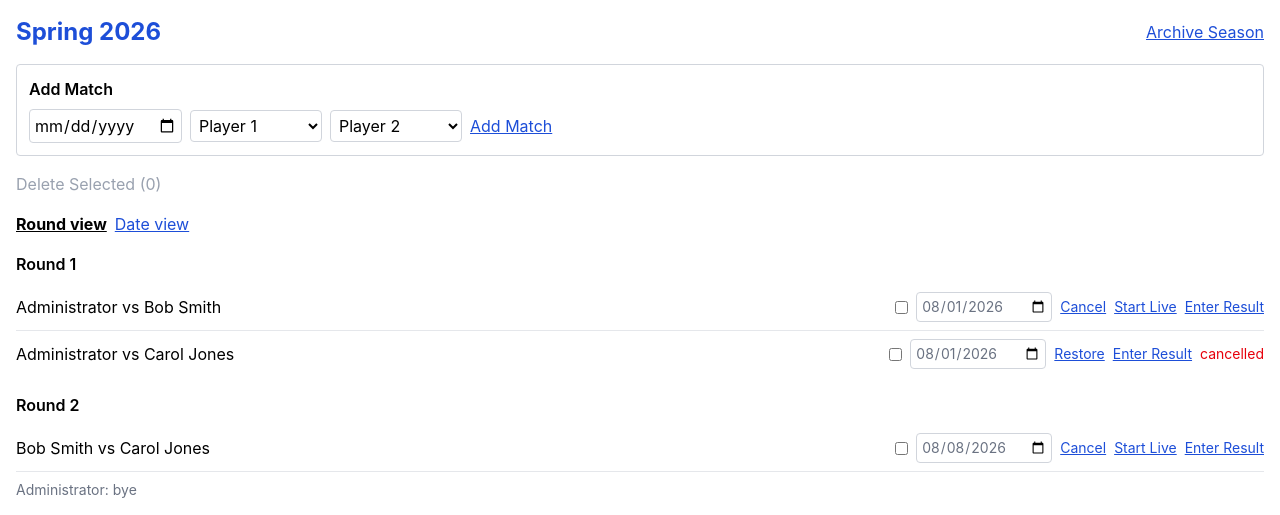
Scenario: SeasonMatches Date view › filters both the match list and the date list itself when My matches only is checked
Check: the heading "Spring 2026" is shown, box [16,16,161,48]
What coordinates should you click on to do the following:
click the button "Date view"
I would click on:
 (152, 224)
Its box is [115,212,189,236].
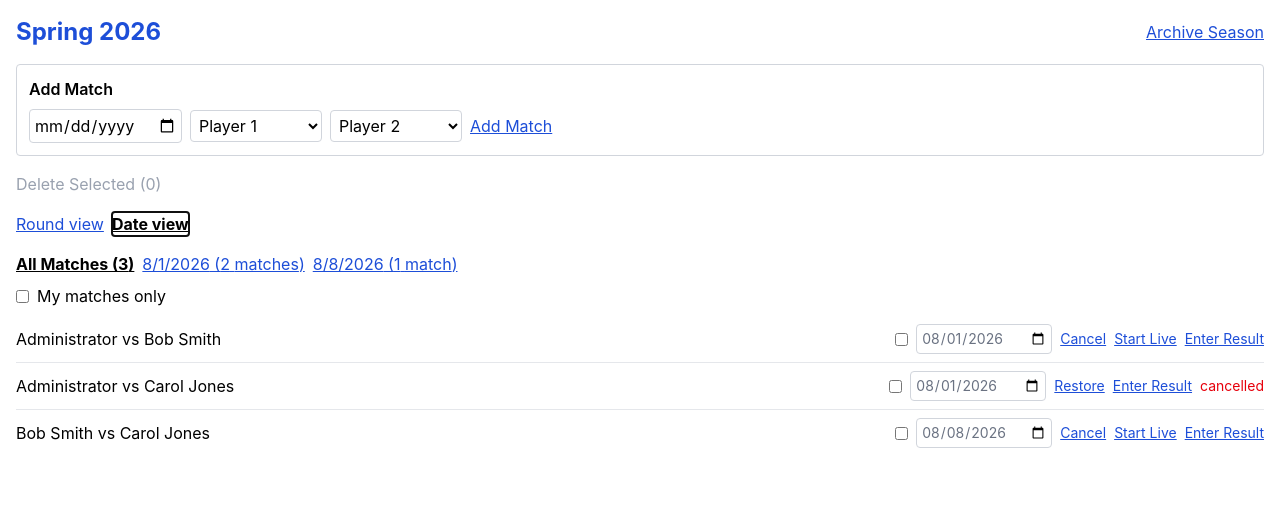
What coordinates should you click on to do the following:
click the checkbox labelled "My matches only"
I would click on:
 (22, 296)
Its box is [16,290,29,302].
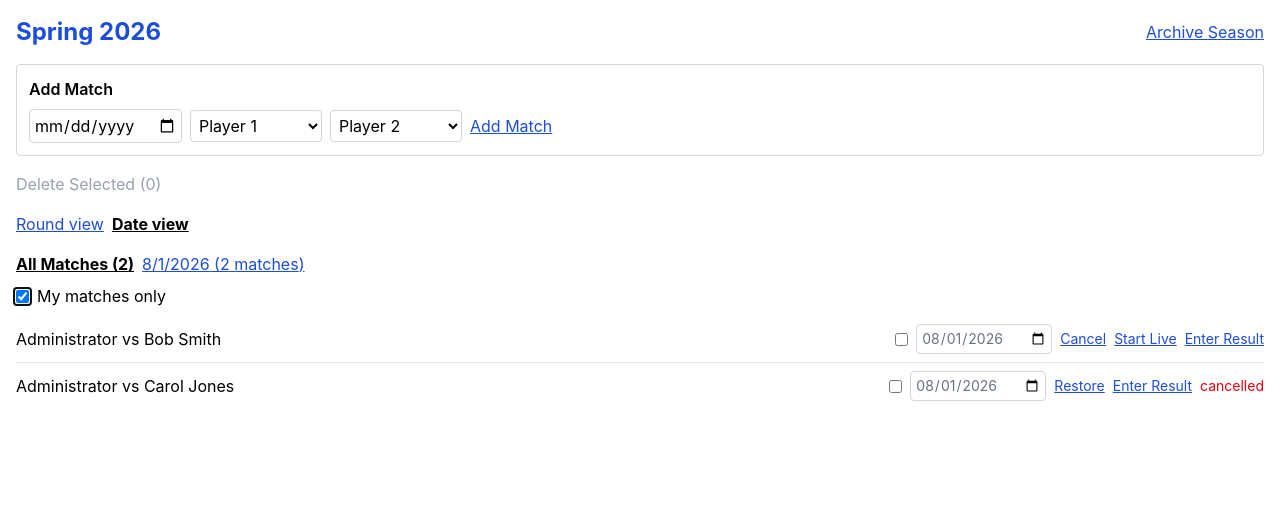
Check: the text "Administrator vs Bob Smith" is shown, box [16,327,221,351]
Check: the button "All Matches (2)" is shown, box [16,252,134,276]
Check: the text "Bob Smith vs Carol Jones" is gone
